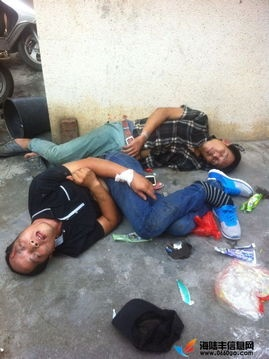falling: (1, 93, 260, 185)
